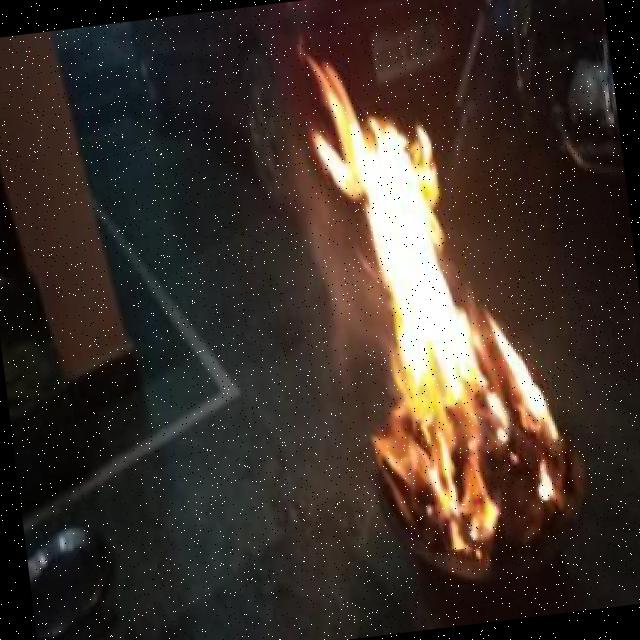fire: (276, 21, 542, 564)
